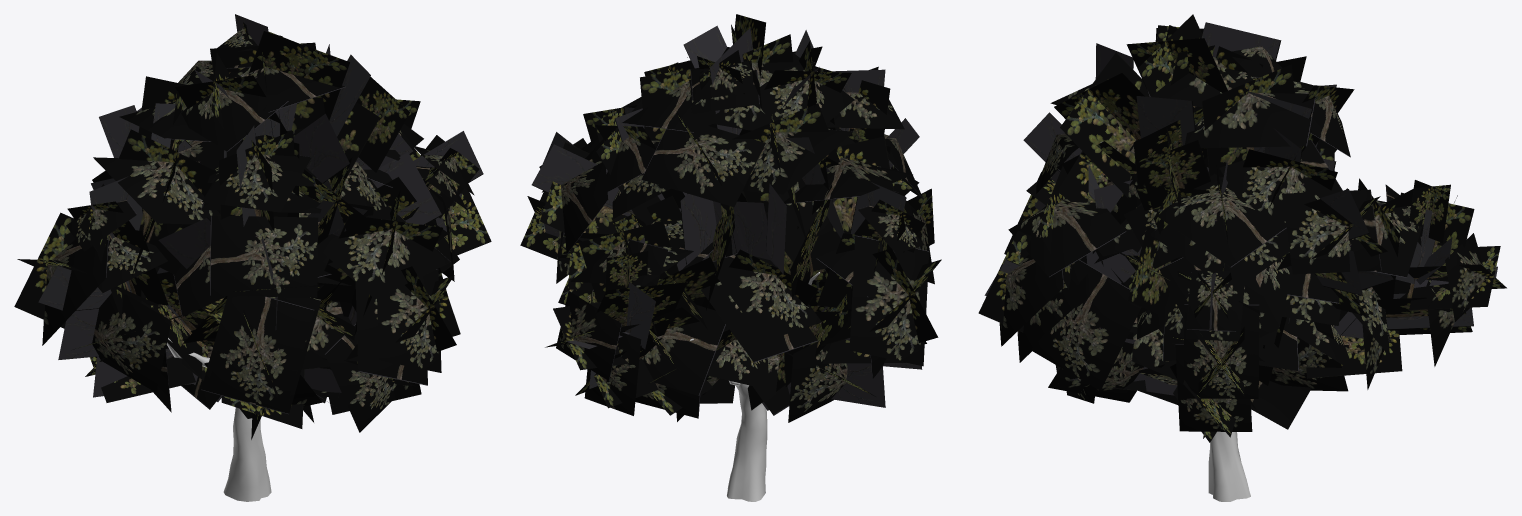
File: Tree.fbx
3 views of the same model, side by side, from view 1: azimuth 30°, elevation 25°; view 2: azimuth 150°, elevation 25°; view 3: azimuth 270°, elevation 25° (orthographic). The views are drawn at different scales.
Visible parts, largest first — view 1: Hojas.006, Arbol.006; view 2: Hojas.006, Arbol.006; view 3: Hojas.006, Arbol.006.
Boxes of the visible parts, x1=… form: Hojas.006: x1=14, y1=14, x2=491, y2=439; Arbol.006: x1=166, y1=338, x2=271, y2=501; Hojas.006: x1=520, y1=14, x2=941, y2=422; Arbol.006: x1=690, y1=272, x2=819, y2=501; Hojas.006: x1=978, y1=14, x2=1506, y2=442; Arbol.006: x1=1208, y1=431, x2=1250, y2=501.
Size of the model in its own units: 1672 by 1711 by 1728.
